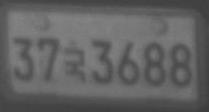3: (90, 39, 114, 85), (12, 35, 35, 80)
6: (117, 40, 141, 85)
7: (38, 36, 60, 80)
8: (143, 41, 167, 86), (169, 42, 193, 87)
국: (62, 47, 87, 84)
